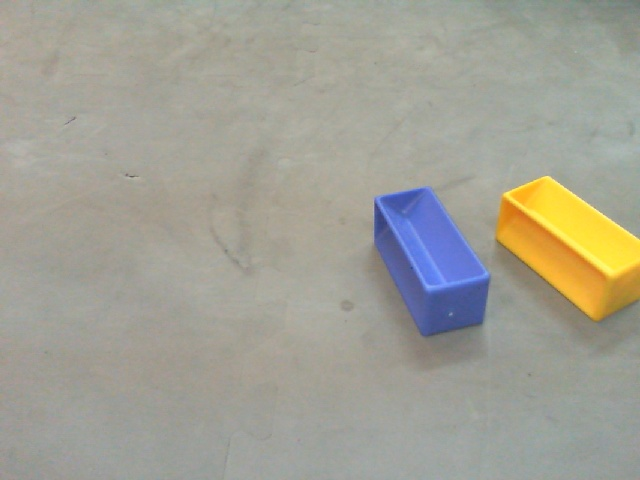BlueSample: (371, 183, 491, 345)
YellowSample: (492, 171, 640, 336)
